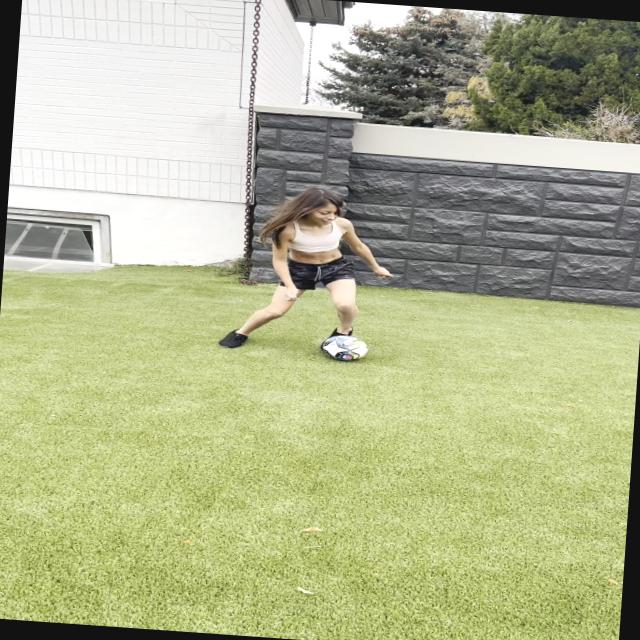Soccer Ball: (320, 334, 370, 364)
